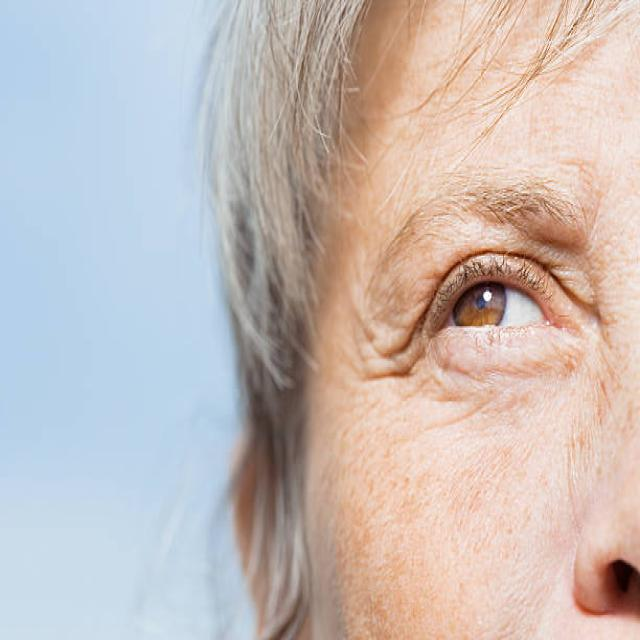Dry-Skin: (295, 238, 417, 637)
